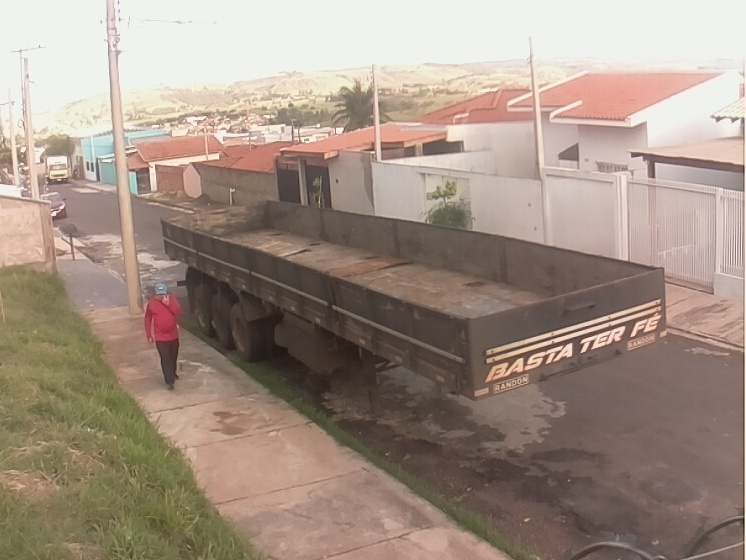person: (142, 282, 188, 391)
